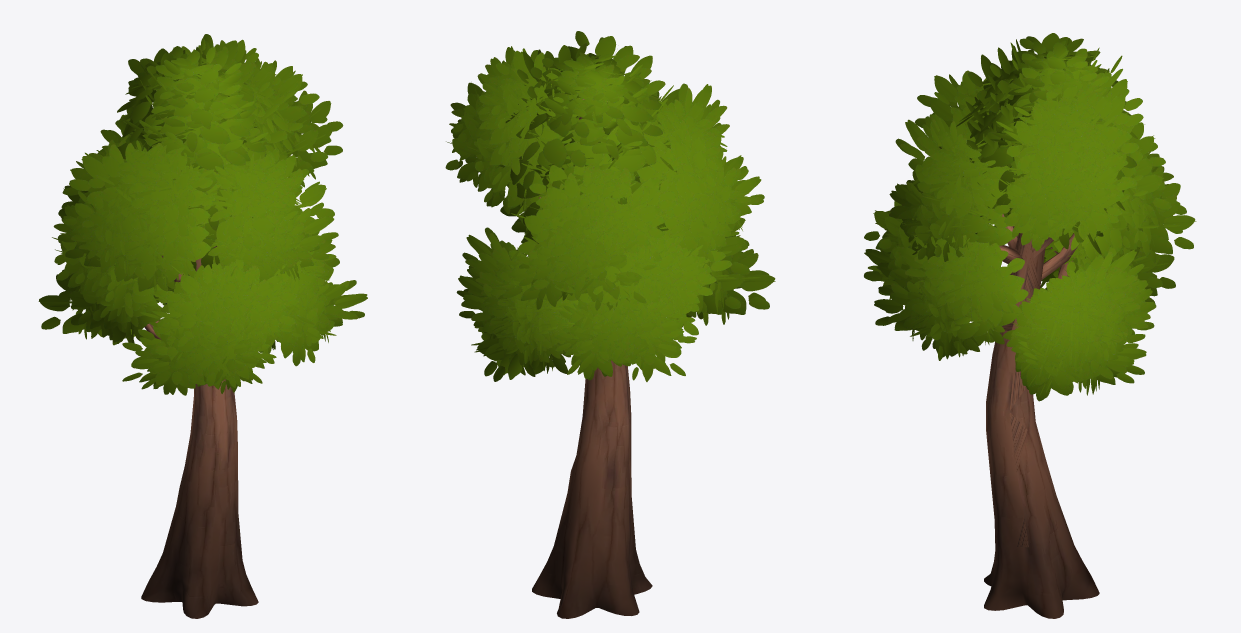
The model's file is CommonTree_1.gltf.
The picture shows the model from 3 angles, left to right: view 1: azimuth 30°, elevation 25°; view 2: azimuth 150°, elevation 25°; view 3: azimuth 270°, elevation 25°; orthographic projection. The views are drawn at different scales.
Parts seen in each view (by area): view 1: CommonTree_1; view 2: CommonTree_1; view 3: CommonTree_1.
Boxes of the visible parts, x1,y1,x2,y2 form: CommonTree_1: [38, 34, 367, 618]; CommonTree_1: [445, 31, 775, 618]; CommonTree_1: [864, 33, 1196, 618].
Bounding box in the file's own units: 4.31 × 7.26 × 4.58.
Materials: 2 (2 with a texture image).
